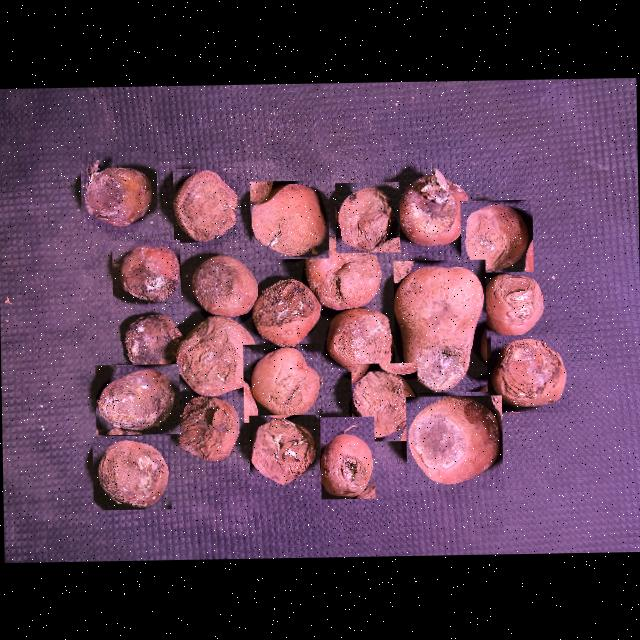Damaged potato: (393, 259, 487, 393), (405, 394, 503, 490), (172, 311, 258, 399), (392, 164, 472, 250), (302, 234, 384, 315), (490, 334, 570, 413), (242, 343, 322, 422), (183, 249, 262, 328), (80, 151, 157, 232), (250, 180, 328, 259), (95, 364, 180, 434), (92, 435, 171, 510), (174, 388, 243, 472), (320, 309, 399, 382), (249, 272, 323, 346), (474, 266, 547, 340), (351, 362, 418, 442), (249, 414, 320, 489), (460, 200, 533, 272), (172, 168, 240, 242), (334, 182, 400, 252), (320, 416, 375, 499), (111, 240, 180, 304), (124, 312, 186, 380)
